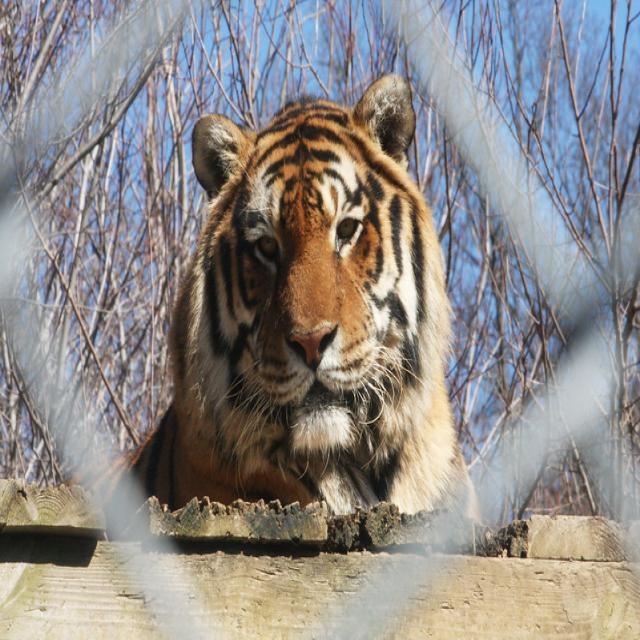Tiger: (62, 67, 478, 515)
